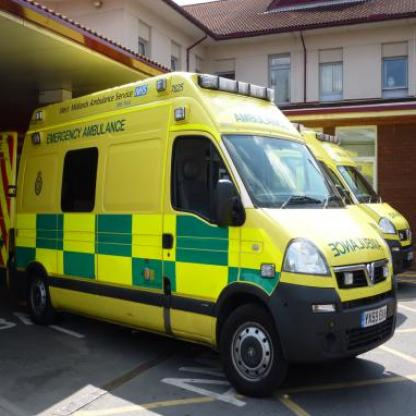truck: (0, 70, 396, 397)
